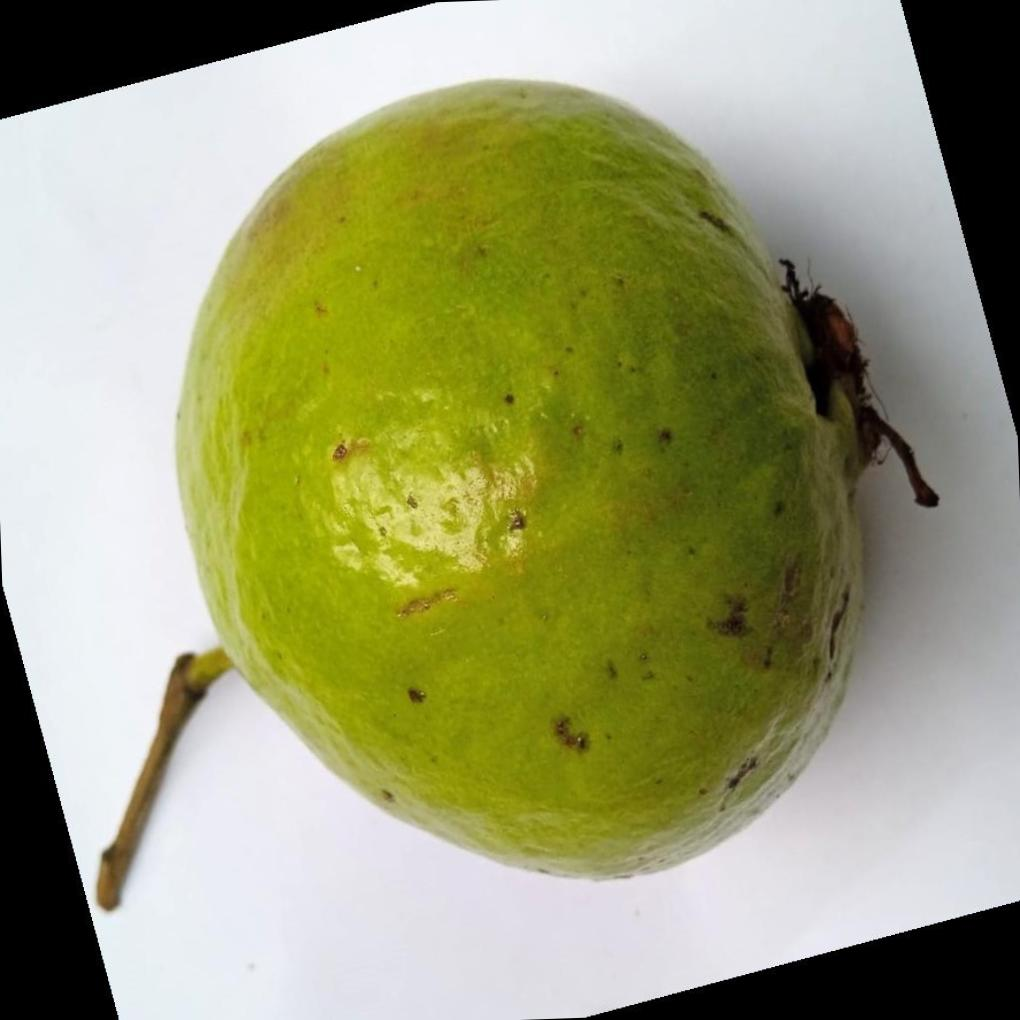FreshGuava: (172, 80, 874, 884)
